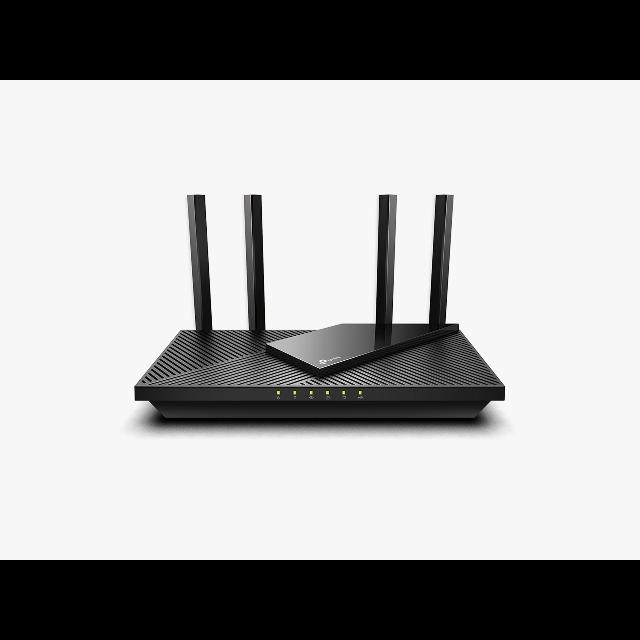Router: (132, 194, 507, 422)
